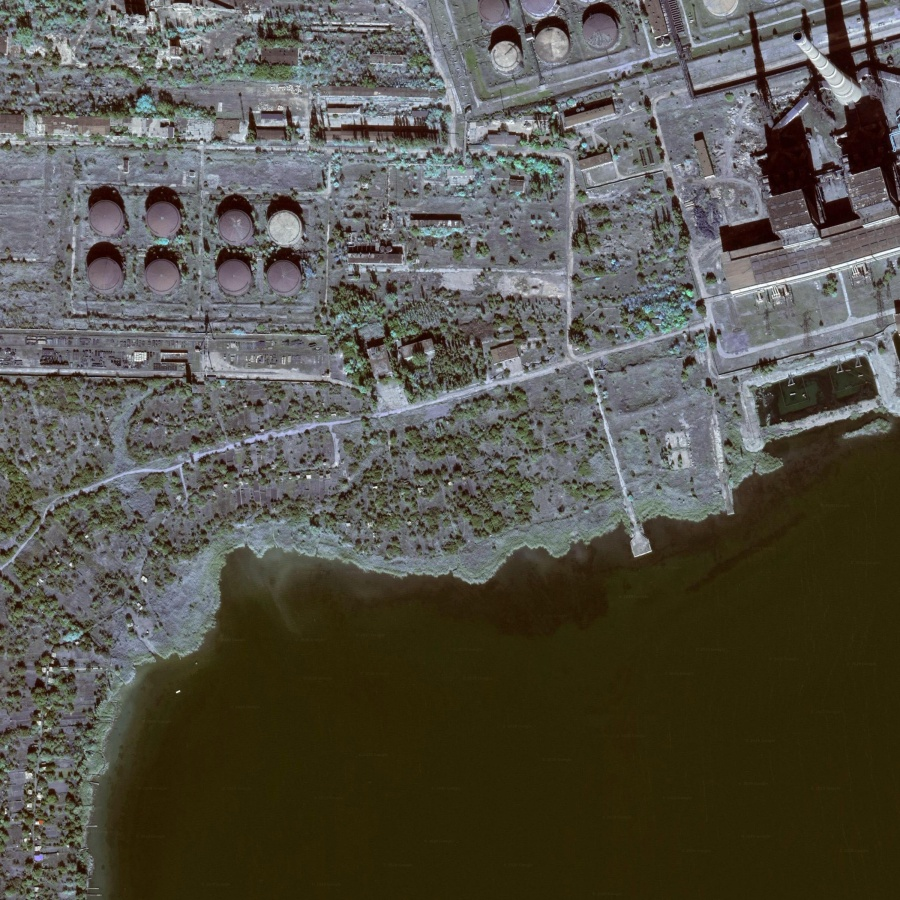PowerPlant: (53, 146, 323, 324)
